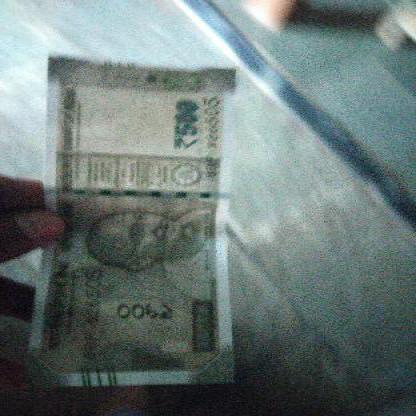New500Front: (38, 55, 231, 378)
